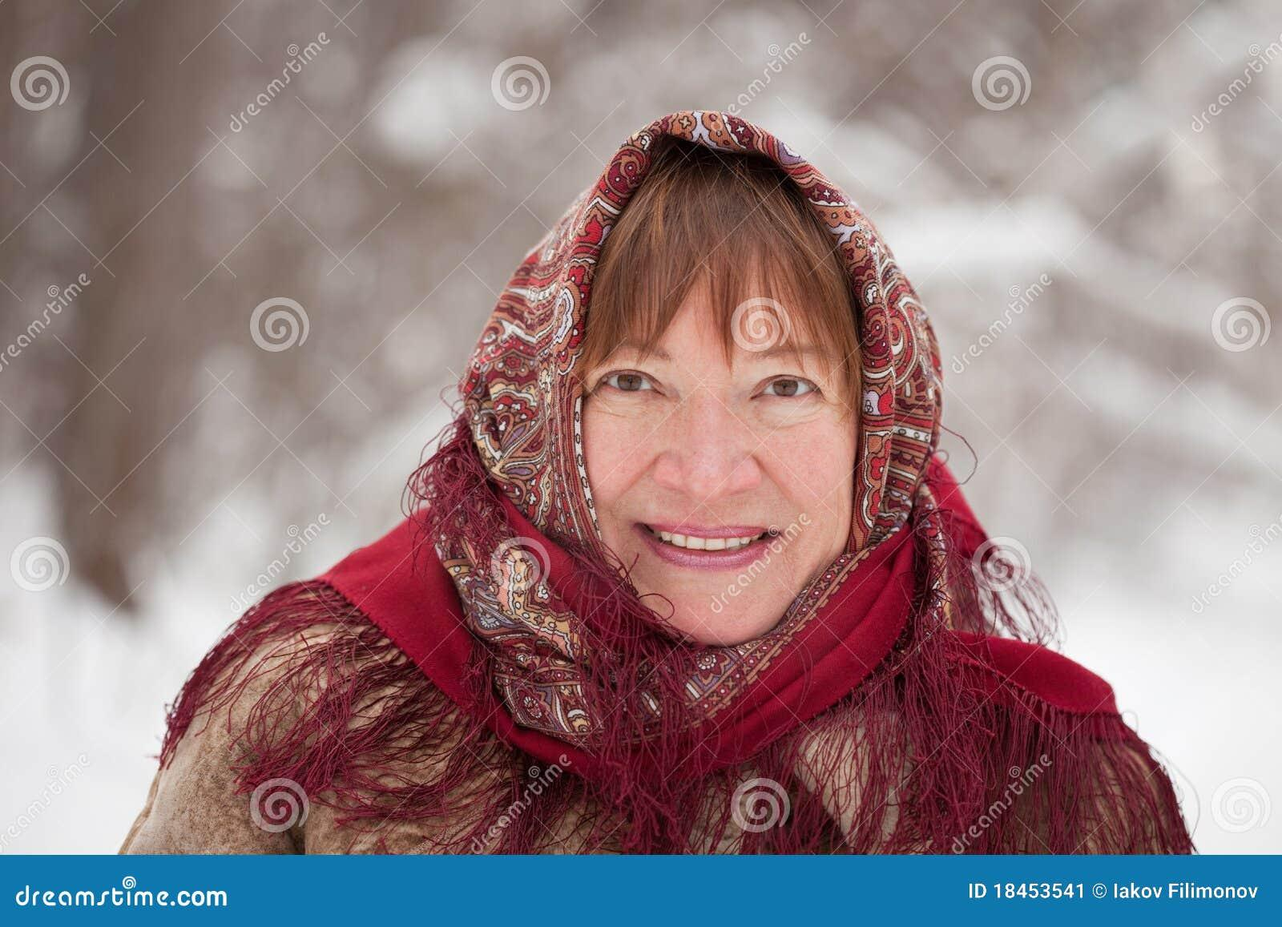scarf-kerchief: (470, 88, 967, 761)
